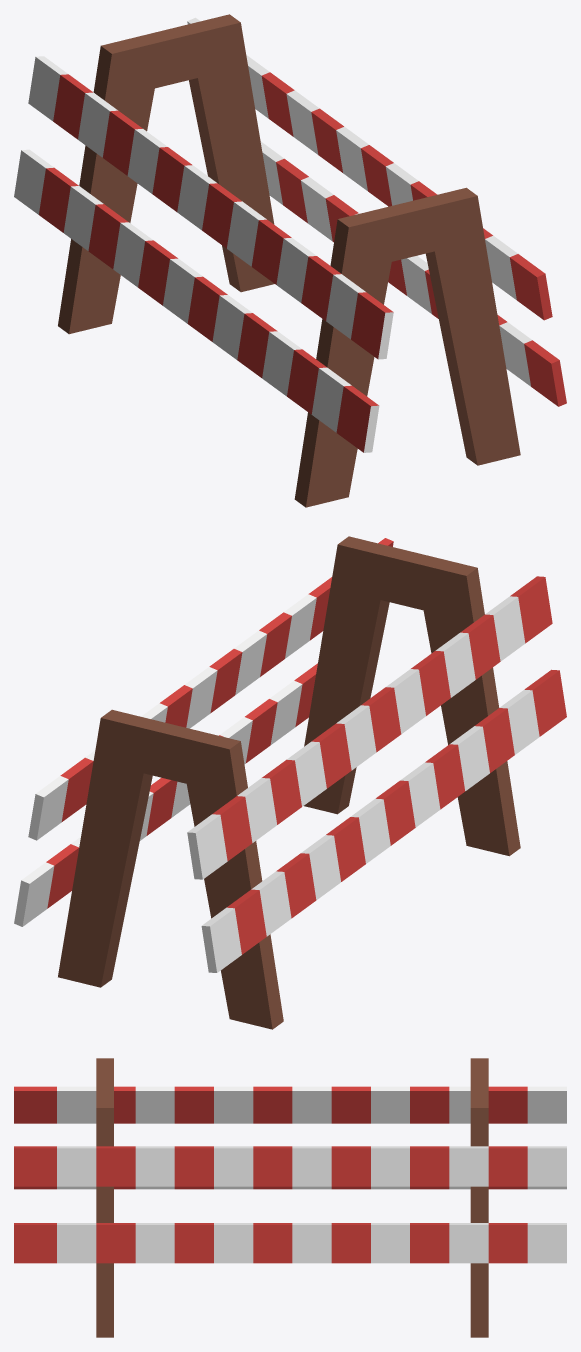
File: barikade.fbx
3 views of the same model, one above another, from view 1: azimuth 30°, elevation 25°; view 2: azimuth 150°, elevation 25°; view 3: azimuth 270°, elevation 25° (orthographic). The views are drawn at different scales.
Parts seen in each view (by area): view 1: barikade; view 2: barikade; view 3: barikade.
Boxes of the visible parts, x1,y1,x2,y2 form: barikade: (14, 14, 566, 507); barikade: (14, 536, 566, 1029); barikade: (14, 1058, 566, 1337).
Bounding box in the file's own units: 50 × 141 × 60.
